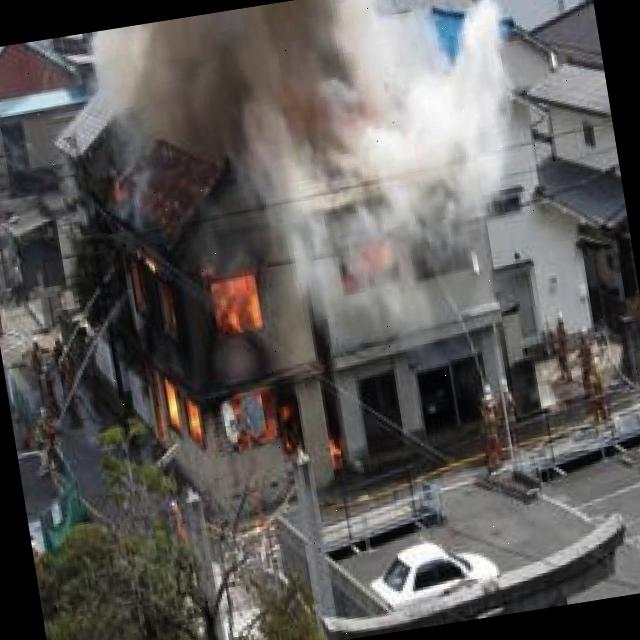fire: (91, 203, 356, 517)
